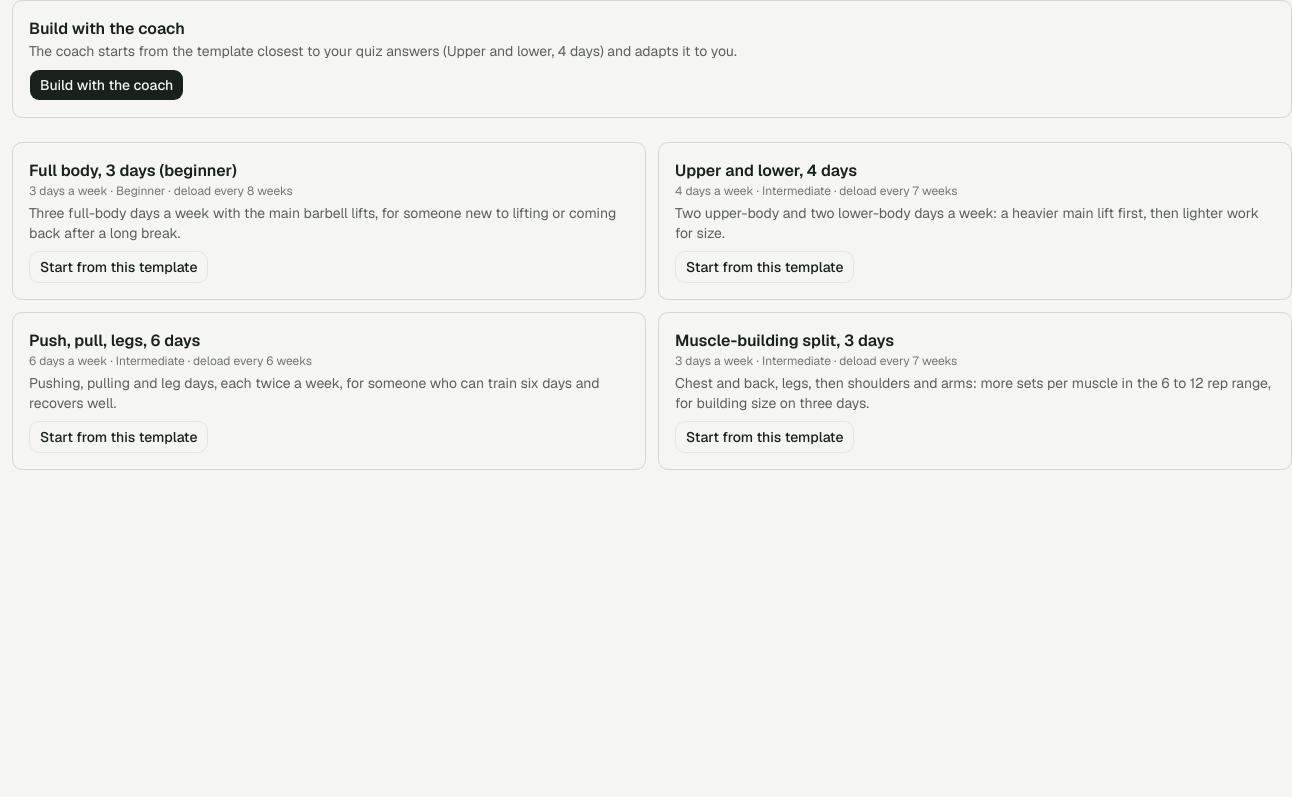
ProgramBuilder › passes the quiz's days to the review, which flags a template with other days
This screenshot has width=1292, height=797.
Click the button "Build with the coach".
click(107, 85)  # box [29,69,184,101]
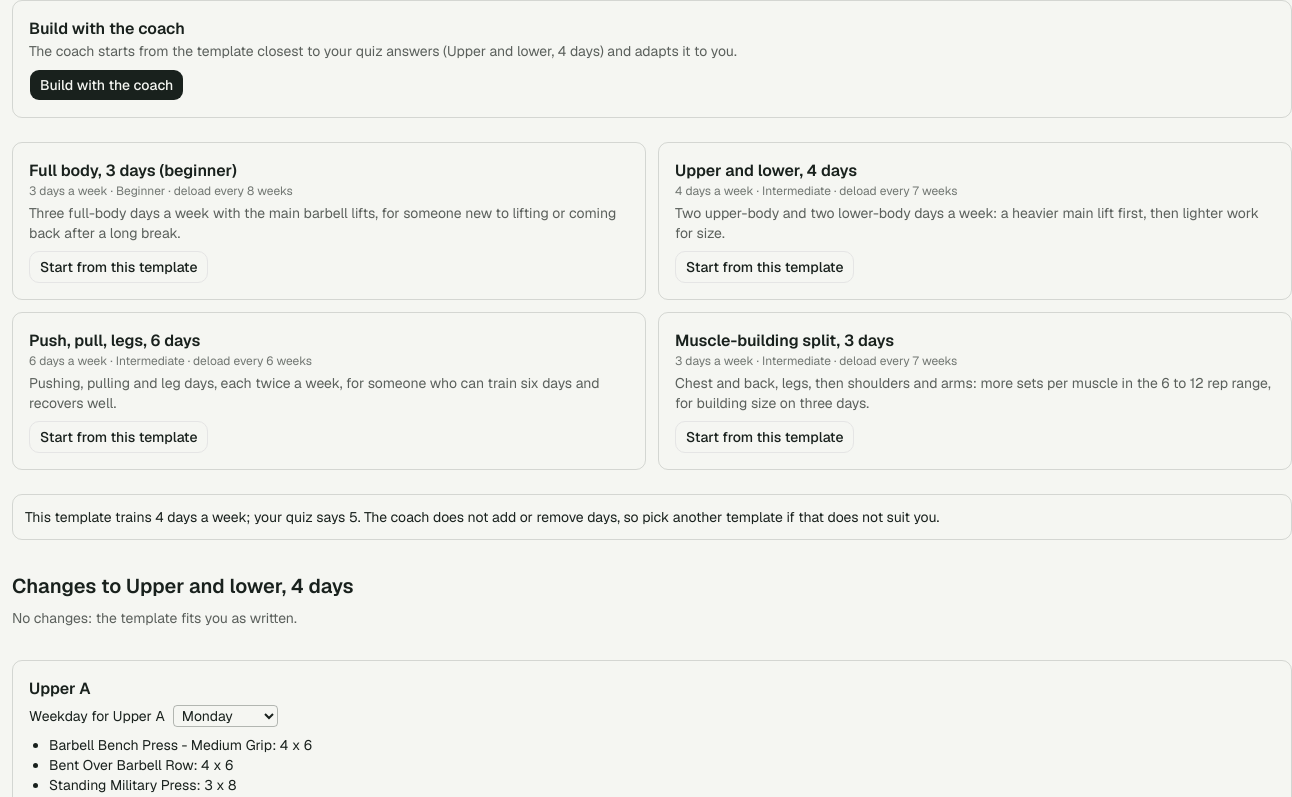
Now the text "trains 4 days a week; your quiz says 5" is shown, box [12,494,1291,540]
